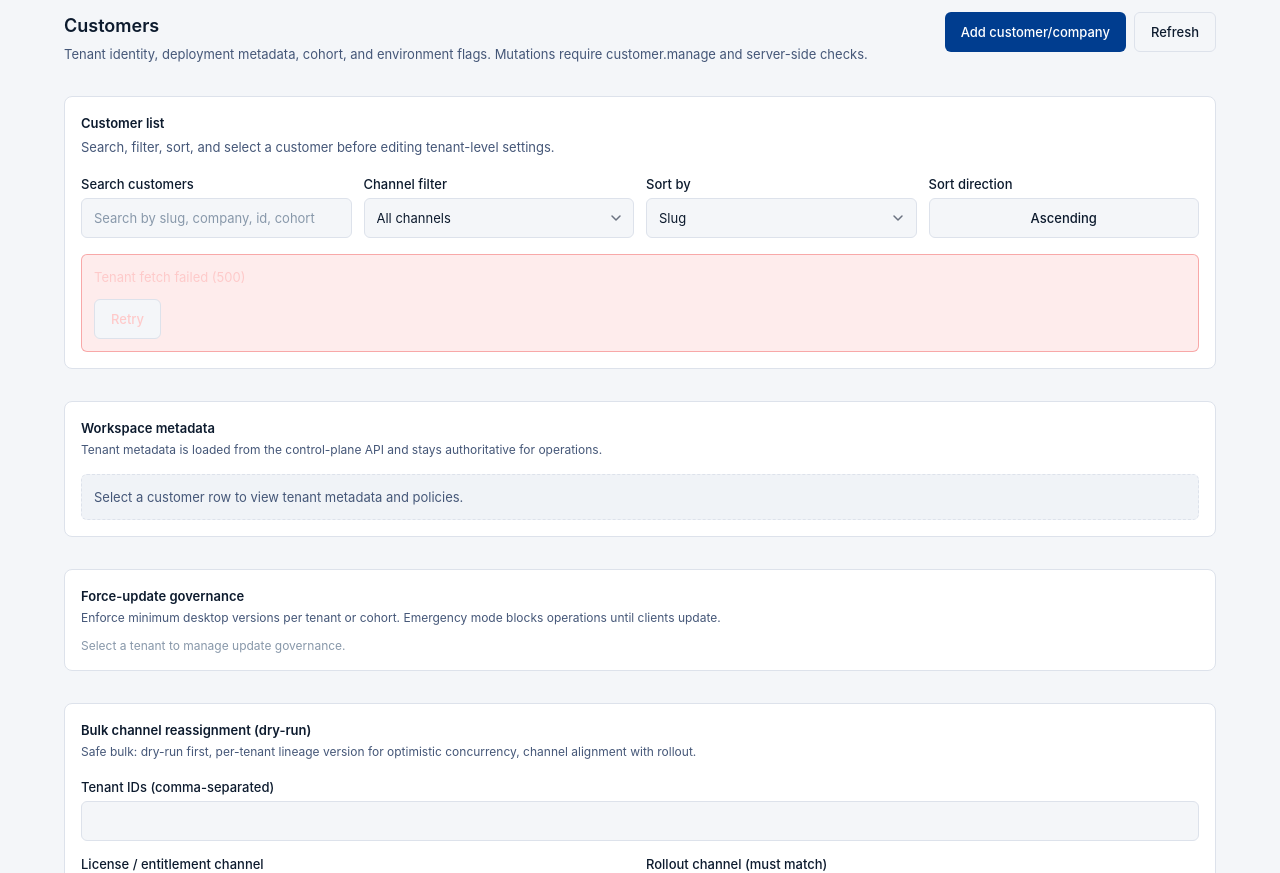
Scenario: CustomerWorkspace › shows load error state with retry action
Expected: the text "Tenant fetch failed (500)" is shown, [94,269,245,285]
Click the button "Retry" at (128, 319), box [94,299,161,339]
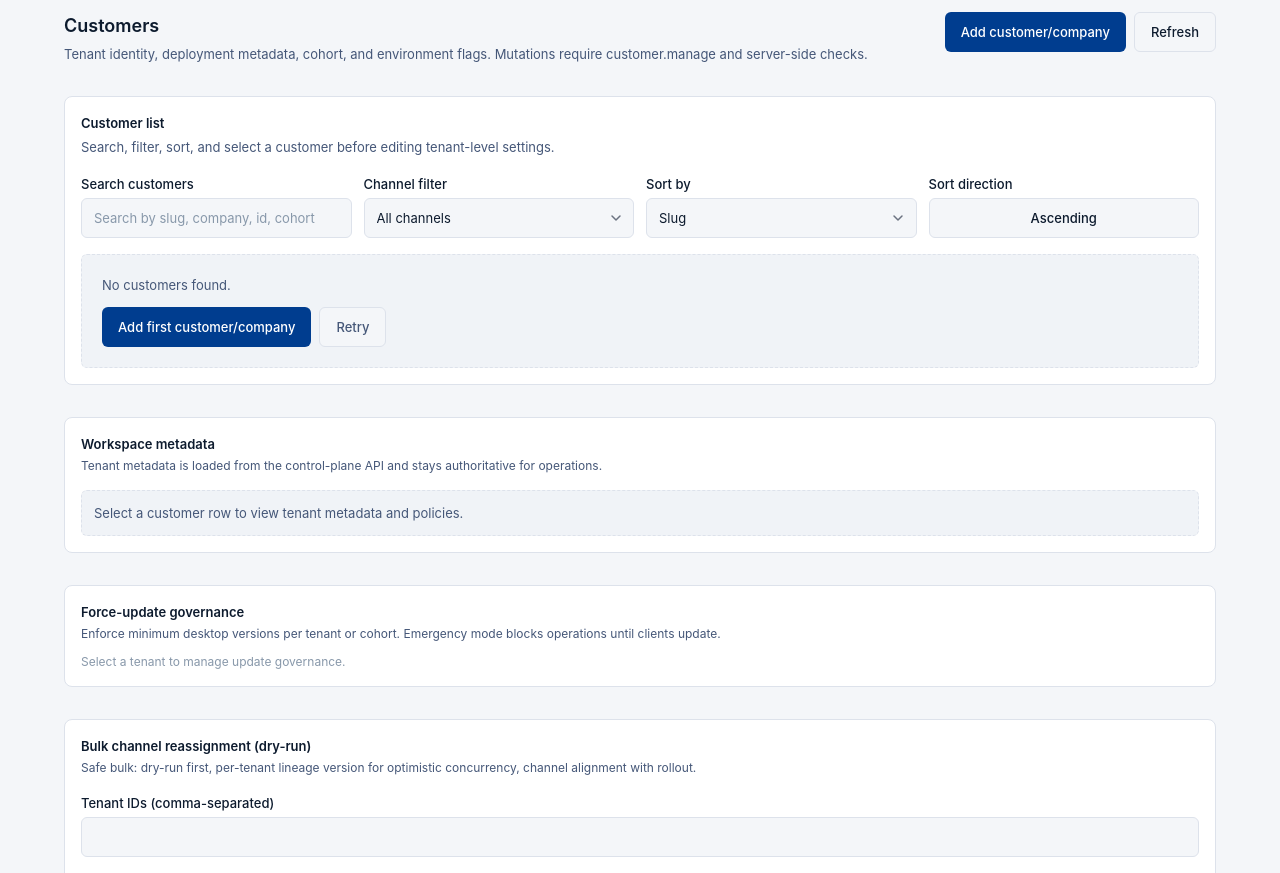
Now the text "No customers found." is shown, box [102,277,231,293]
